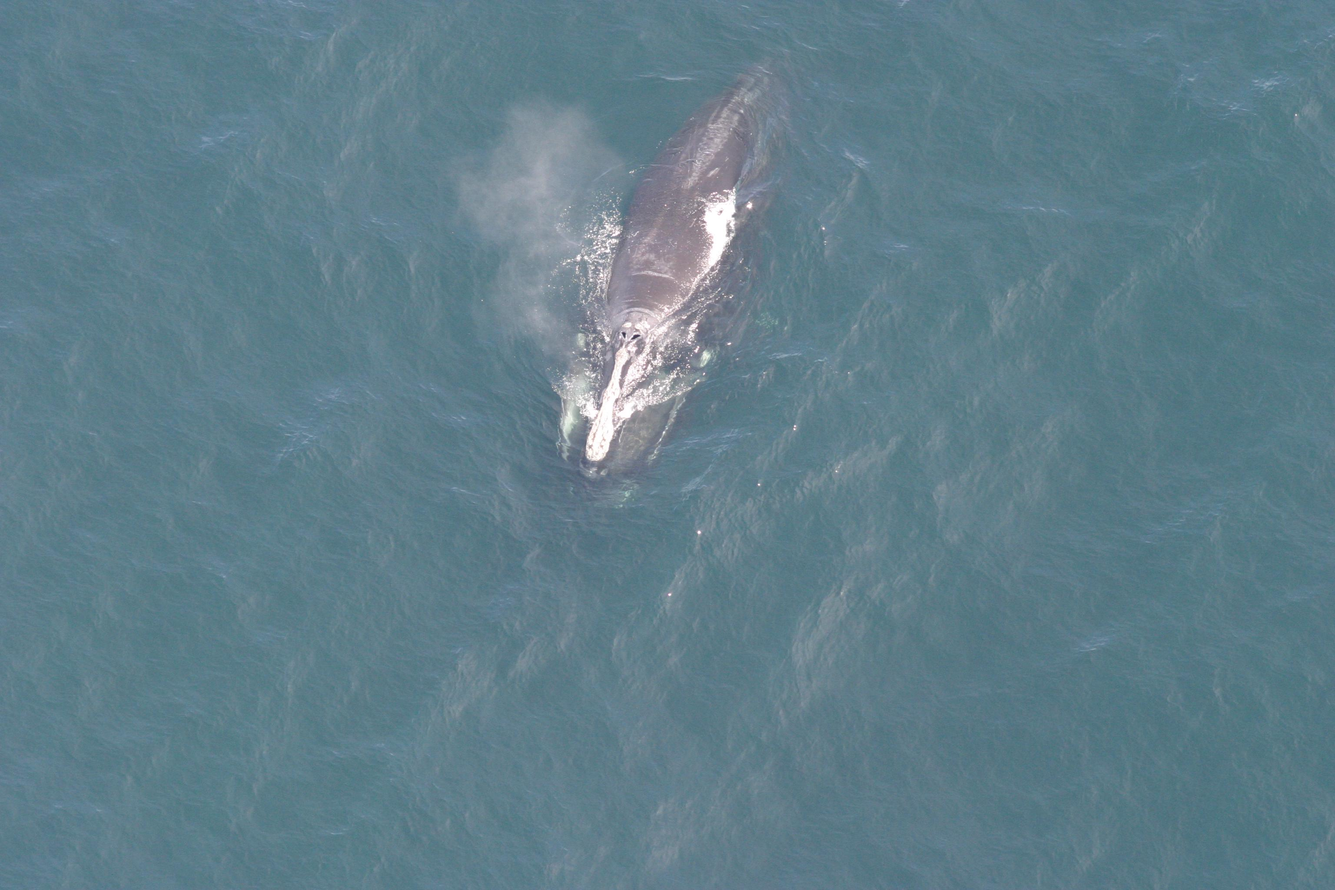whale: (526, 27, 829, 518)
